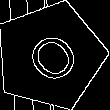O_SE: (16, 22, 84, 90)
